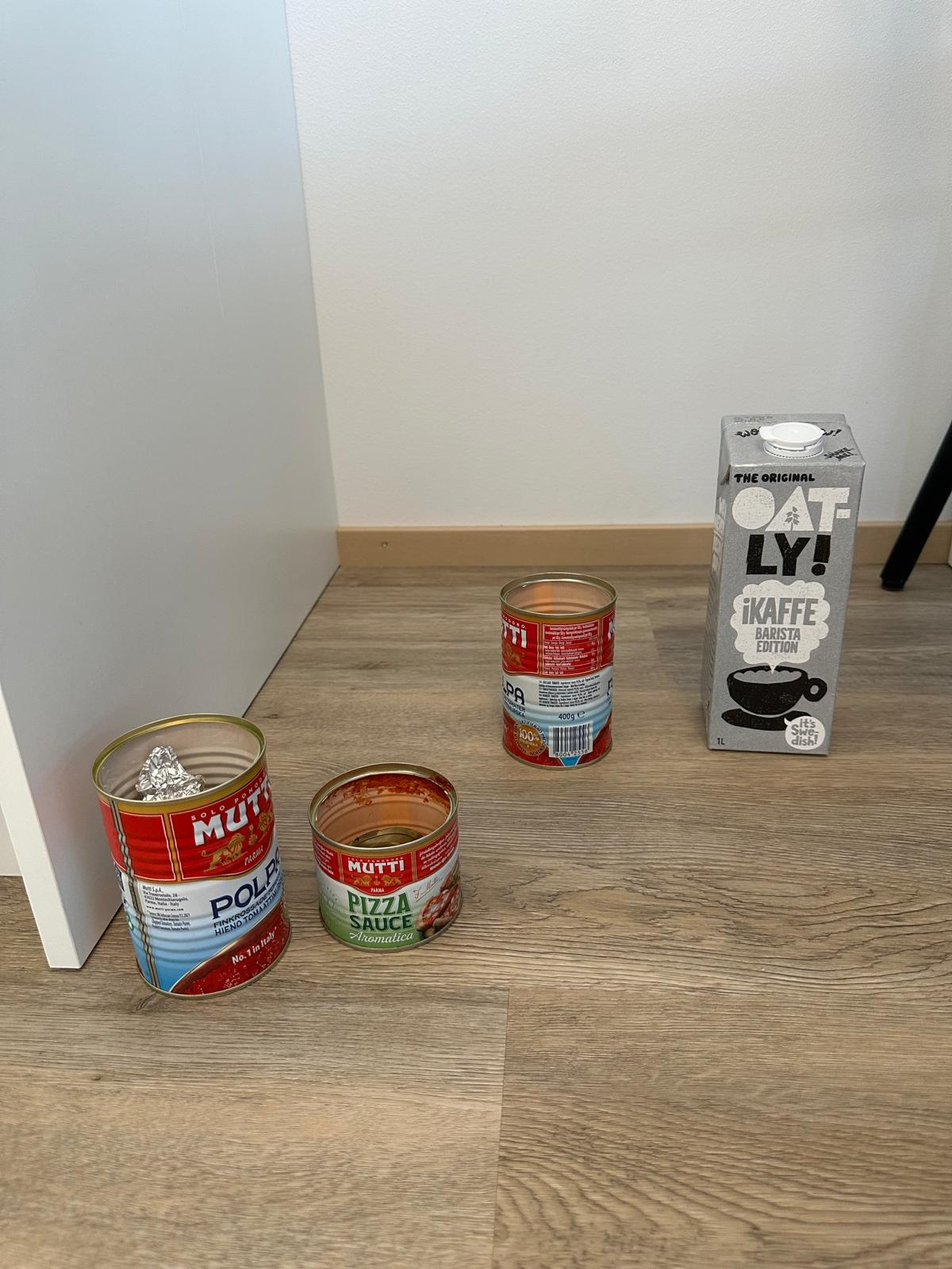Dryckeskartong: (701, 412, 869, 756)
Konservburk: (90, 713, 292, 1000), (307, 761, 464, 954), (498, 572, 618, 771)
